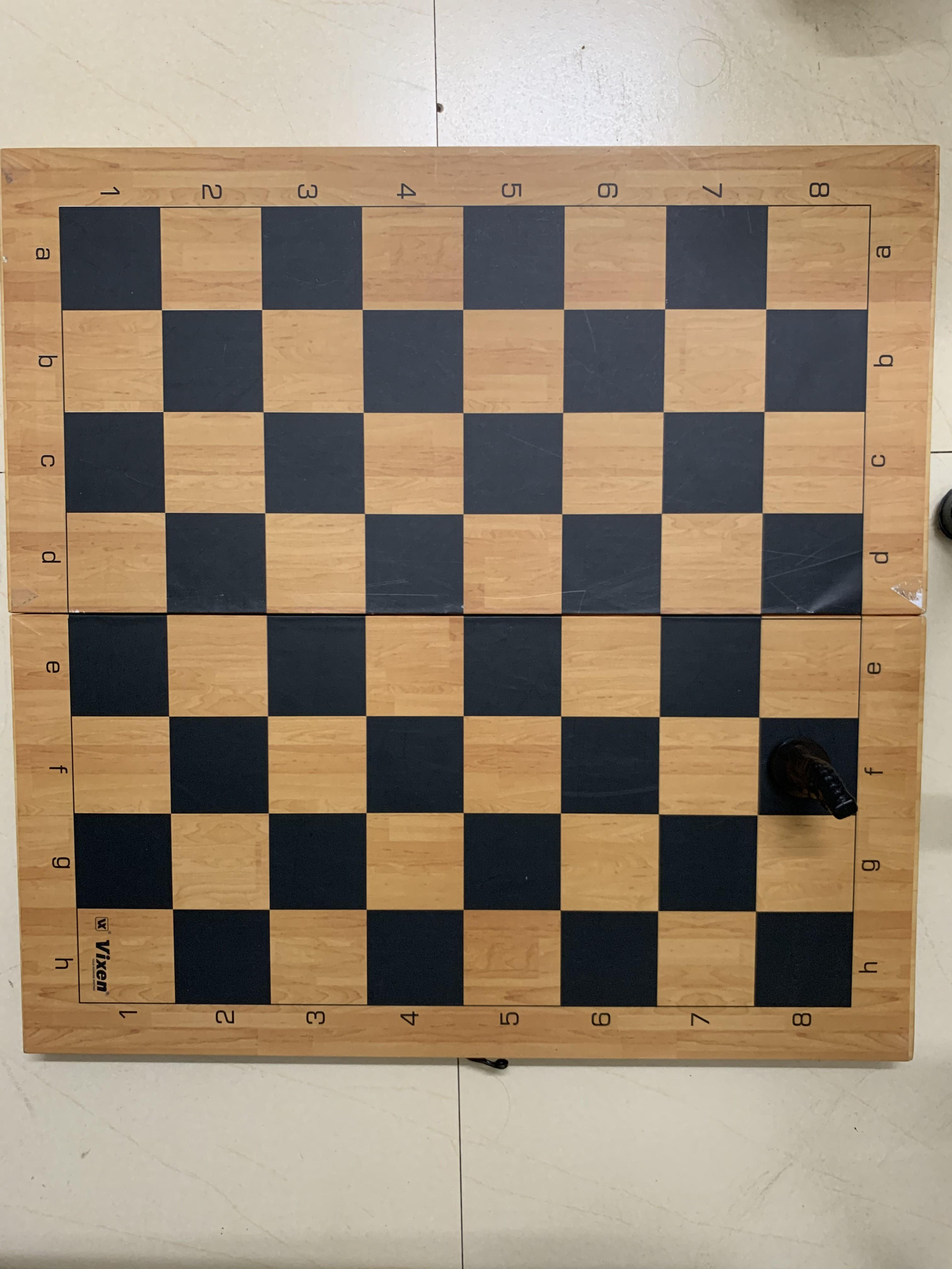black_knight: (760, 710, 864, 833)
